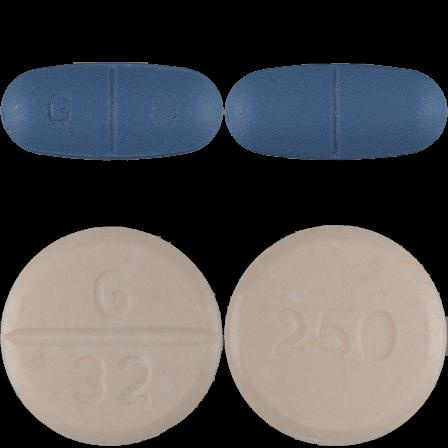68462-179: (0, 0, 224, 224)
